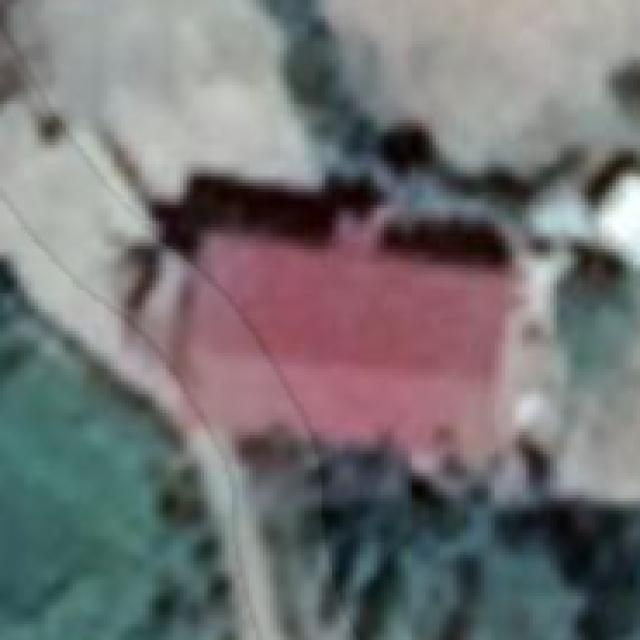Batiment: (162, 179, 514, 469)
